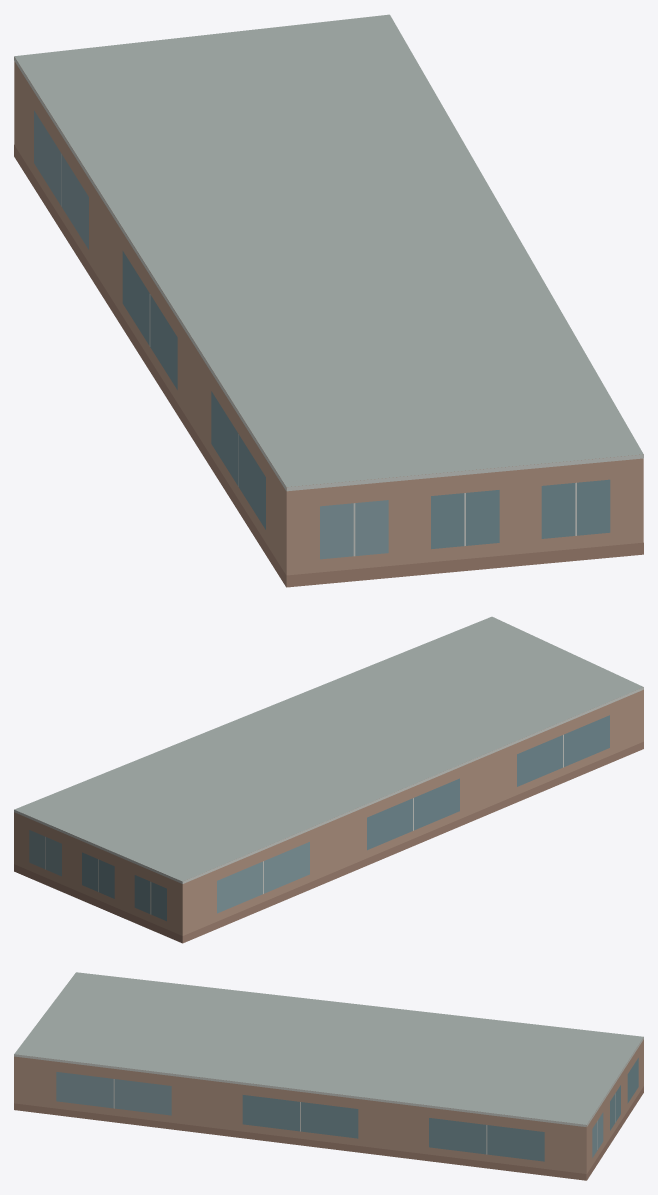
The model's file is survey-upis-32820088.glb.
3 views of the same model, one above another, from view 1: azimuth 30°, elevation 25°; view 2: azimuth 150°, elevation 25°; view 3: azimuth 270°, elevation 25° (orthographic). The views are drawn at different scales.
Parts seen in each view (by area): view 1: survey-upis-32820088.tmp; view 2: survey-upis-32820088.tmp; view 3: survey-upis-32820088.tmp.
Boxes of the visible parts, x1,y1,x2,y2 form: survey-upis-32820088.tmp: [14, 14, 643, 587]; survey-upis-32820088.tmp: [14, 616, 643, 943]; survey-upis-32820088.tmp: [14, 972, 643, 1180].
Bounding box in the file's own units: 17.91 × 3.05 × 31.21.
